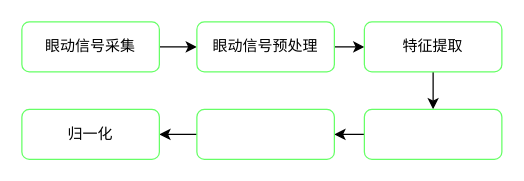
The diagram is 524 pixels wide and 181 high, and some of its shapes have lost their labels. Here are the shapes that lost their labels. From the top down, the centre of each, then its label:
At (x=265, y=133): "特征显著性检测".
At (x=432, y=133): "特征平滑".
